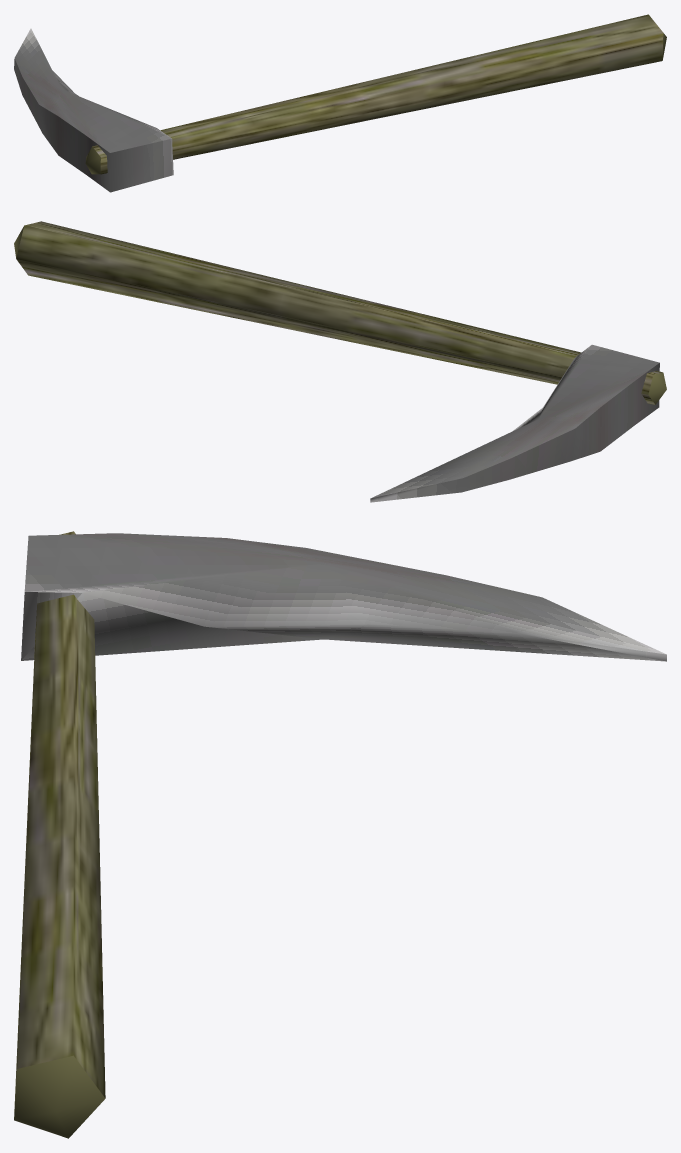
The model's file is scythe.obj.
The picture shows the model from 3 angles, top to bottom: view 1: azimuth 30°, elevation 25°; view 2: azimuth 150°, elevation 25°; view 3: azimuth 270°, elevation 25°; orthographic projection. The views are drawn at different scales.
Visible parts, largest first — view 1: Cylinder02; view 2: Cylinder02; view 3: Cylinder02.
Part boxes in pixels (bbox=[...]): Cylinder02: bbox=[14, 14, 666, 192]; Cylinder02: bbox=[14, 221, 666, 502]; Cylinder02: bbox=[14, 531, 666, 1138].
Size of the model in its own units: 53.45 by 4.4 by 27.38.
